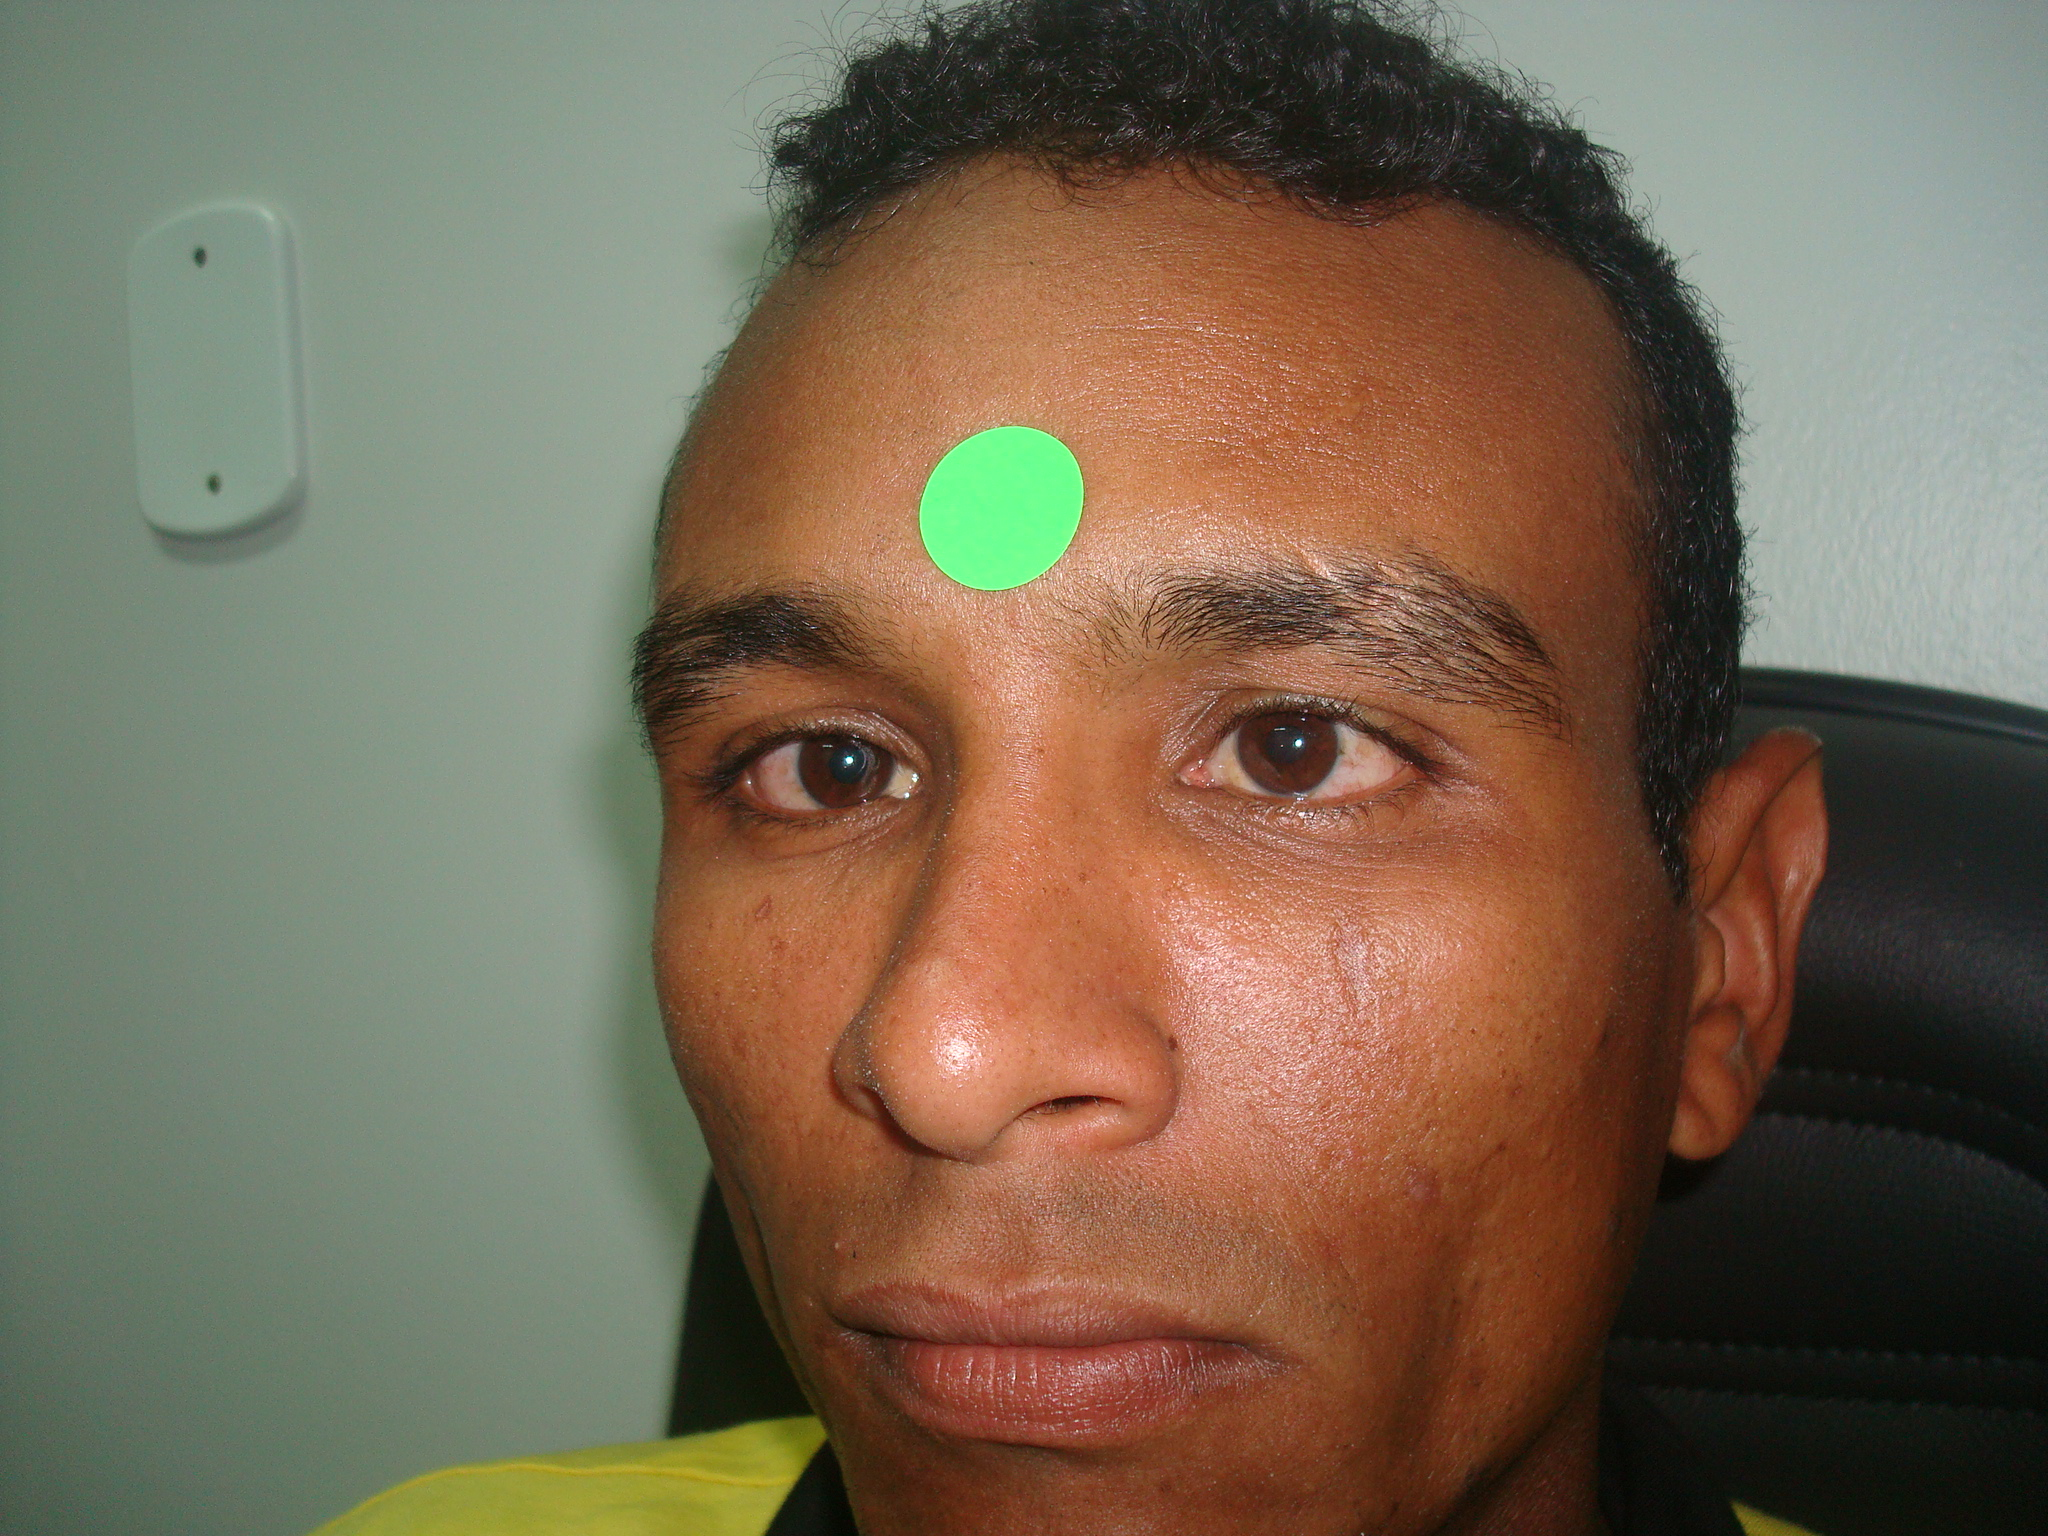flash: (1292, 736, 1305, 750), (843, 755, 856, 766)
limbo: (798, 723, 895, 808), (1238, 703, 1329, 786)
